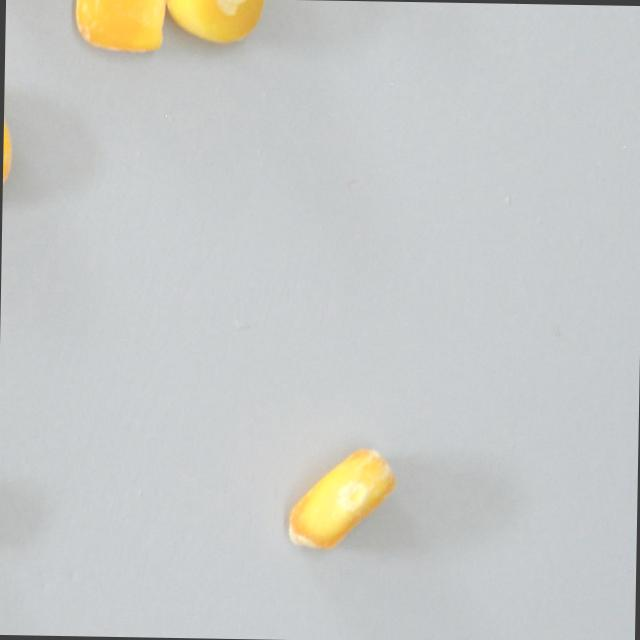no_canjicado: (168, 0, 266, 43)
pelicula: (286, 445, 397, 549), (73, 0, 176, 54), (2, 83, 16, 206)
